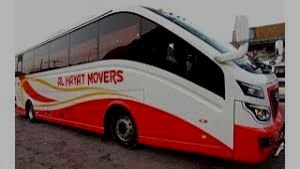bus: (16, 7, 284, 163)
